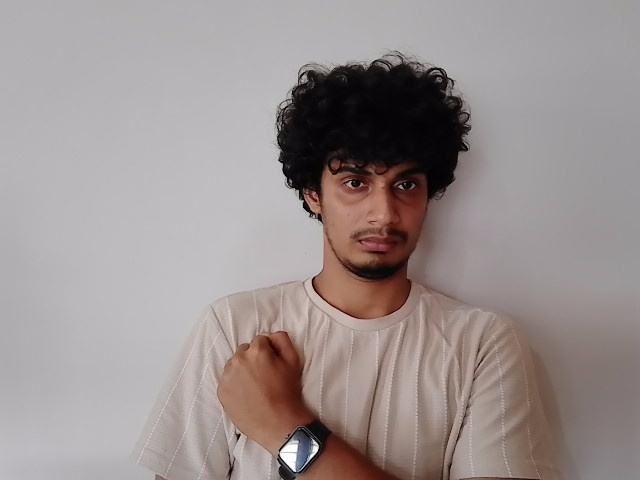sorry: (120, 288, 357, 458)
